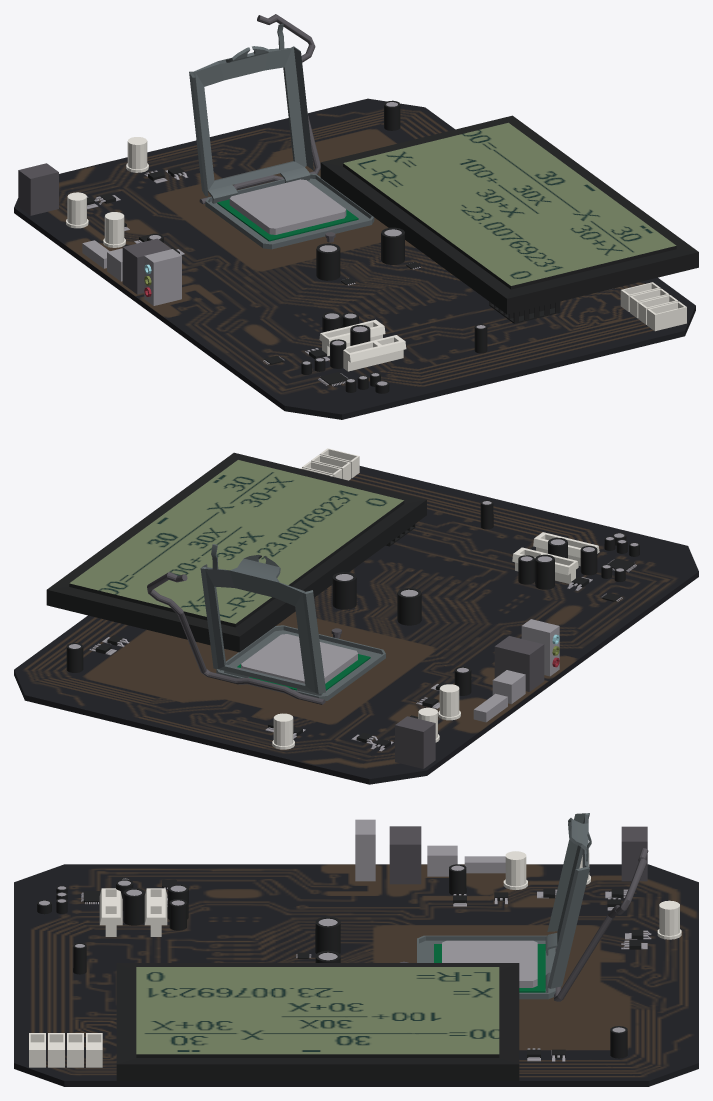
The model's file is Advanced calculator module.fbx.
3 renders of one model, top to bottom at view 1: azimuth 30°, elevation 25°; view 2: azimuth 150°, elevation 25°; view 3: azimuth 270°, elevation 25°, orthographic. The views are drawn at different scales.
Visible parts, largest first — view 1: advanced_calculator_module; view 2: advanced_calculator_module; view 3: advanced_calculator_module.
Part boxes in pixels (left/top/right/bottom): advanced_calculator_module: left=14, top=14, right=698, bottom=419; advanced_calculator_module: left=14, top=448, right=698, bottom=784; advanced_calculator_module: left=14, top=813, right=698, bottom=1086.
Bounding box in the file's own units: 1.27 × 0.4194 × 1.59.
